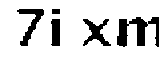7: (13, 5, 47, 50)
i: (48, 2, 68, 49)
m: (114, 14, 160, 51)
x: (78, 12, 112, 53)
